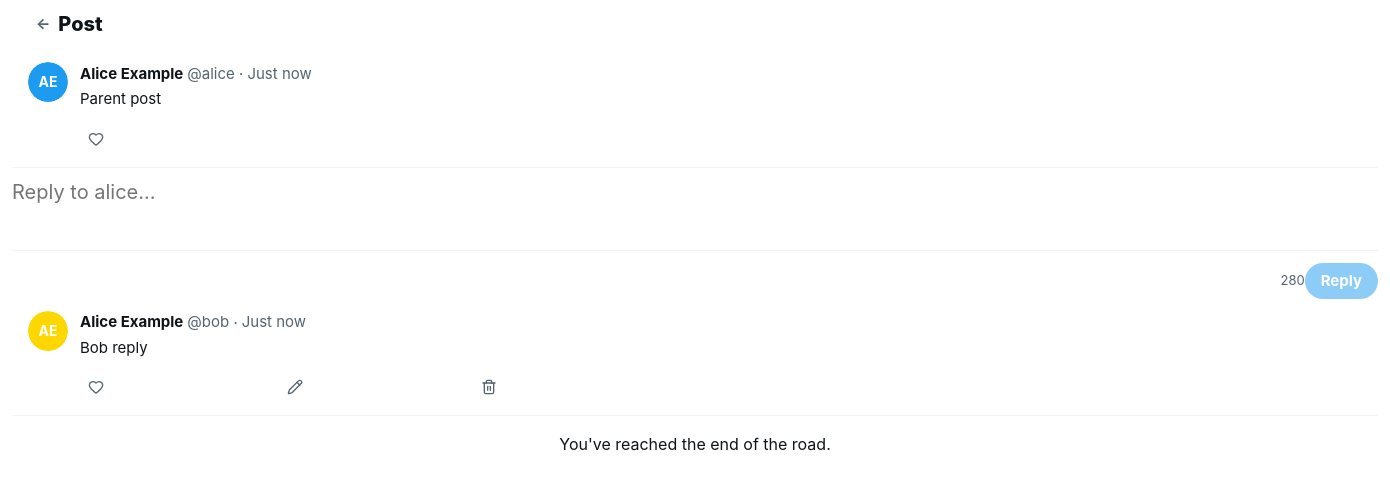
Test case: Conversation UI states › enters inline edit mode for a reply
Click the button with test id "post-edit-button-88". click: (294, 387)
box: [278,371,310,403]
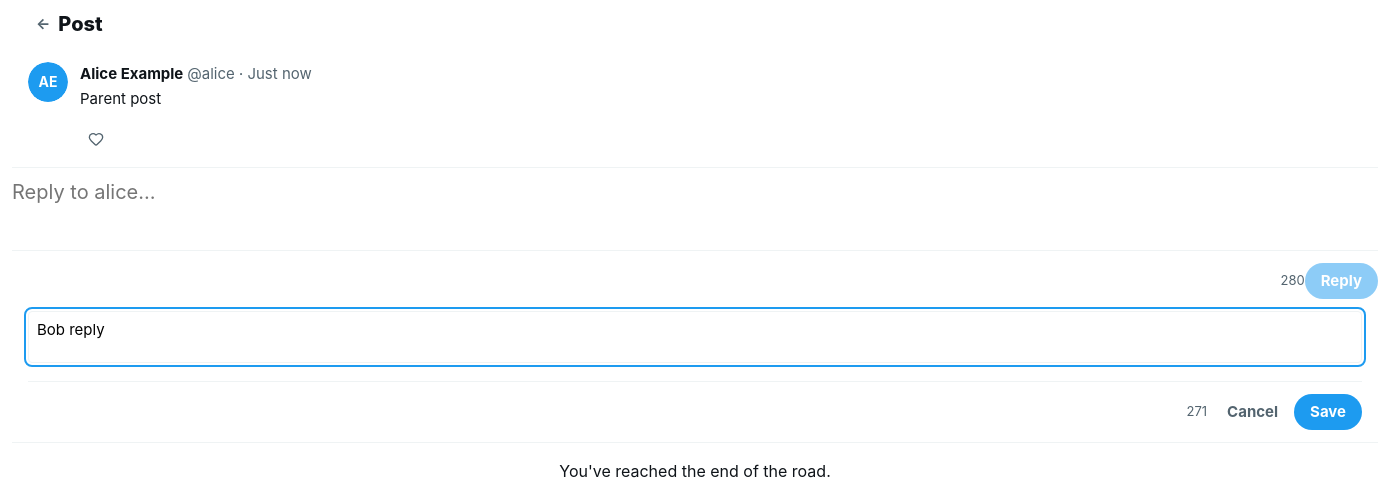
Expected: the text box with test id "post-editor-body-input-88" holds "Bob reply", [28,310,1362,362]
